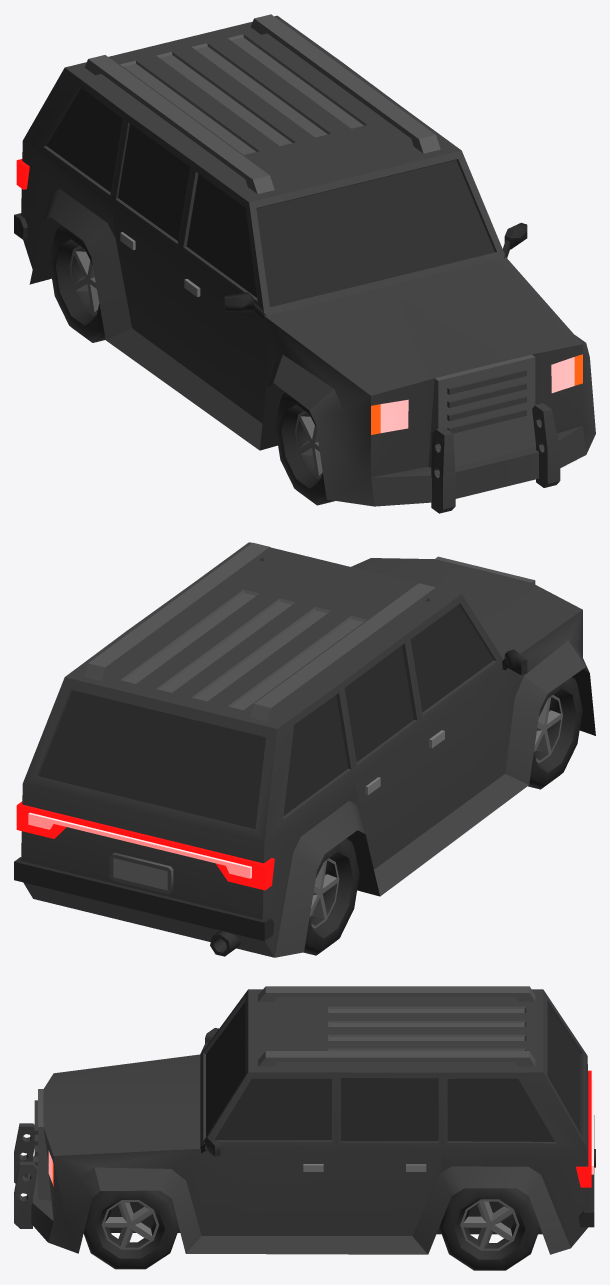
Rendered from car_cube034.glb.
The picture shows the model from 3 angles, top to bottom: view 1: azimuth 30°, elevation 25°; view 2: azimuth 150°, elevation 25°; view 3: azimuth 270°, elevation 25°; orthographic projection. The views are drawn at different scales.
Visible parts, largest first — view 1: Cube.034, Cube.126, Cylinder.040, Cube.124, Cylinder.038, Cube.125, Cube.035; view 2: Cube.034, Cube.126, Cube.128, Cube.038, Cylinder.040, Cylinder.038, Cube.127, Cylinder.090; view 3: Cube.034, Cube.126, Cylinder.040, Cylinder.038, Cube.124, Cube.038, Cube.128, Cube.035.
Part boxes in pixels (box(x1,y1,x2,y2)): Cube.034: box(21, 15, 595, 506); Cube.126: box(84, 14, 440, 194); Cylinder.040: box(49, 226, 105, 342); Cube.124: box(431, 403, 560, 513); Cylinder.038: box(275, 393, 334, 505); Cube.125: box(447, 369, 526, 433); Cube.035: box(224, 222, 527, 320); Cube.034: box(21, 542, 595, 957); Cube.126: box(84, 542, 440, 721); Cube.128: box(14, 857, 273, 941); Cube.038: box(16, 801, 274, 890); Cylinder.040: box(303, 838, 359, 955); Cylinder.038: box(528, 677, 582, 789); Cube.127: box(109, 852, 173, 894); Cylinder.090: box(210, 931, 240, 956); Cube.034: box(28, 989, 589, 1254); Cube.126: box(258, 986, 535, 1066); Cylinder.040: box(439, 1188, 540, 1270); Cylinder.038: box(83, 1190, 179, 1269); Cube.124: box(14, 1123, 37, 1228); Cube.038: box(576, 1070, 593, 1187); Cube.128: box(579, 1115, 594, 1227); Cube.035: box(200, 1028, 220, 1156).
Size of the model in its own units: 2.43 by 1.93 by 5.05.
Materials: 3 (3 with a texture image).
